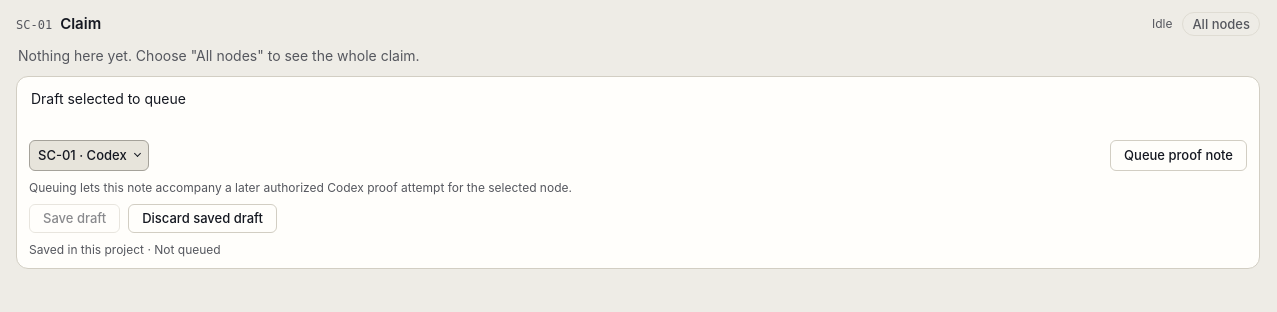
it: shows the newly saved version when an explicit queue leaves a concurrent draft untouched
The image size is (1277, 312).
Check: the text "Saved in this project · Not queued" is shown, box 29,242 -> 221,257
Click the button "Queue proof note": (1179, 155) 1110,140 -> 1247,171
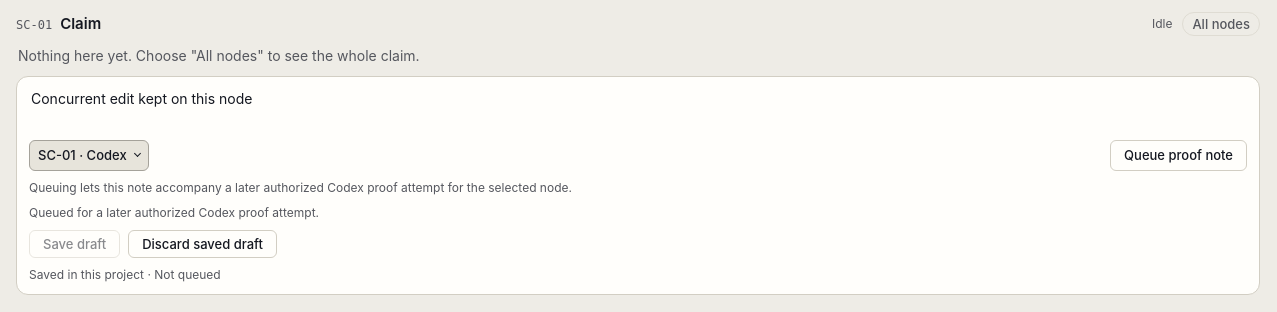
Check: the text "Saved in this project · Not queued" is shown, box 29,267 -> 221,282
Check: the text "Queued for a later authorized Codex proof attempt." is shown, box 29,205 -> 319,220
Check: the text box named "Proof opinion" holds "Concurrent edit kept on this node", box 29,87 -> 1247,132
